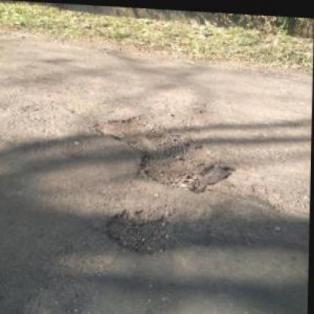Hueco: (92, 106, 225, 190), (104, 204, 183, 256)
